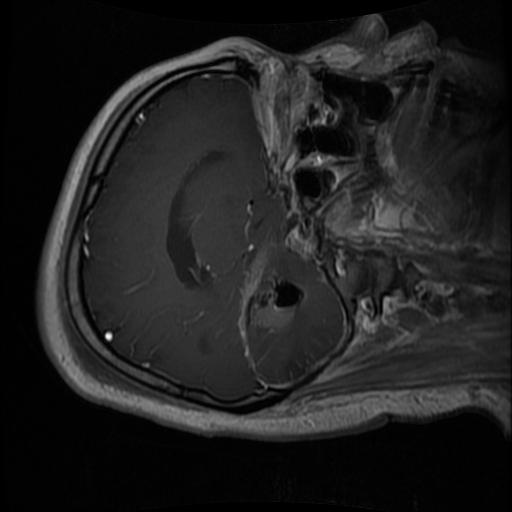glioma: (242, 272, 306, 333)
